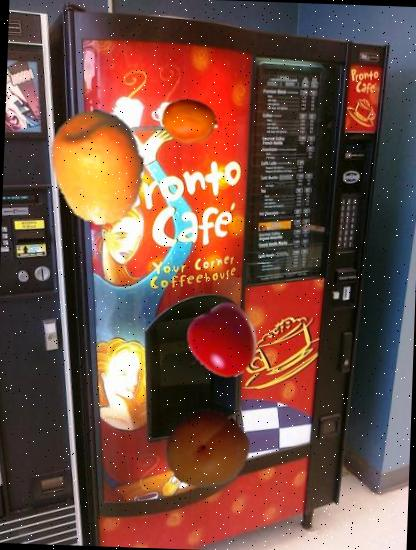Apricot: (164, 408, 250, 494), (162, 94, 218, 150)
Kumquats: (38, 108, 158, 227)
Tomato: (188, 306, 262, 379)
